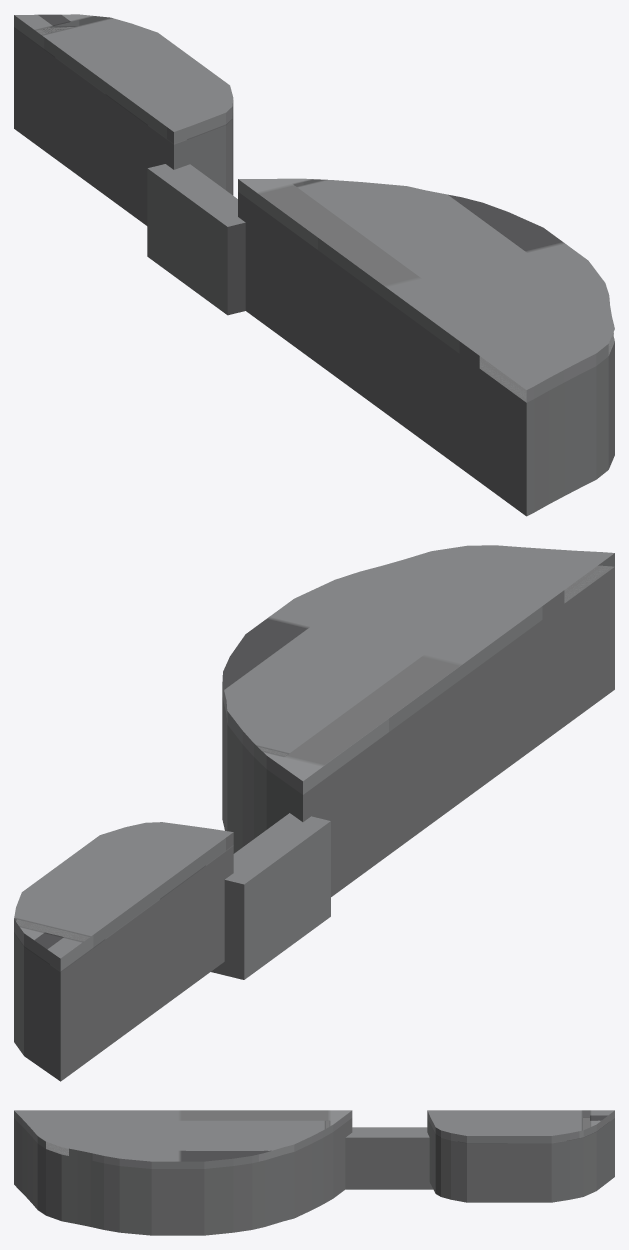
The picture shows the model from 3 angles, top to bottom: view 1: azimuth 30°, elevation 25°; view 2: azimuth 150°, elevation 25°; view 3: azimuth 270°, elevation 25°; orthographic projection. The views are drawn at different scales.
Bounding box in the file's own units: 0.327 × 0.2 × 1.47.
